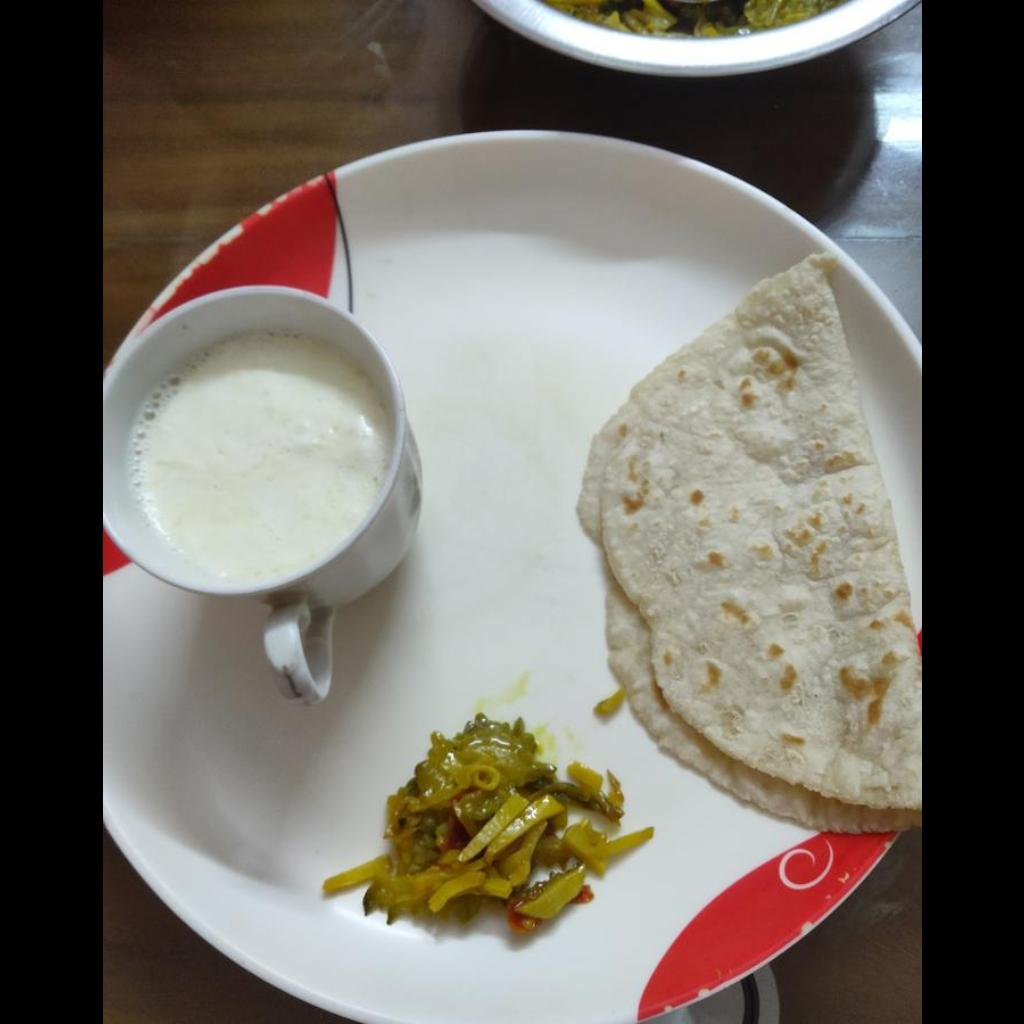milk: (140, 334, 390, 584)
ruti: (573, 261, 920, 836)
vaji: (314, 728, 651, 934)
